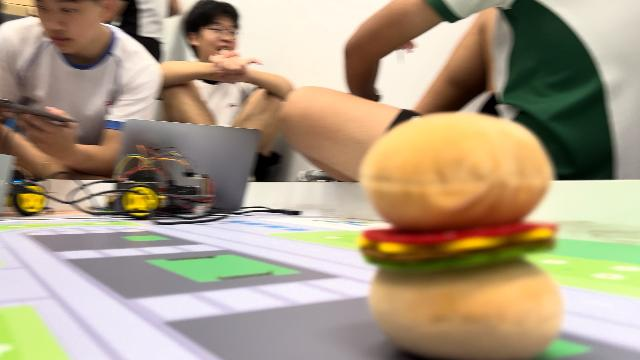burger: (354, 107, 570, 358)
